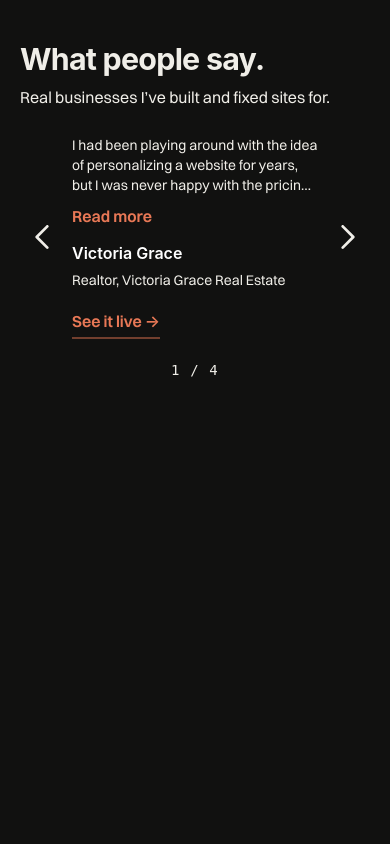
Test case: Proof › toggles the mobile read-more control on the quote
Click the button "Read more".
click(112, 216)  # box left=72, top=204, right=152, bottom=229
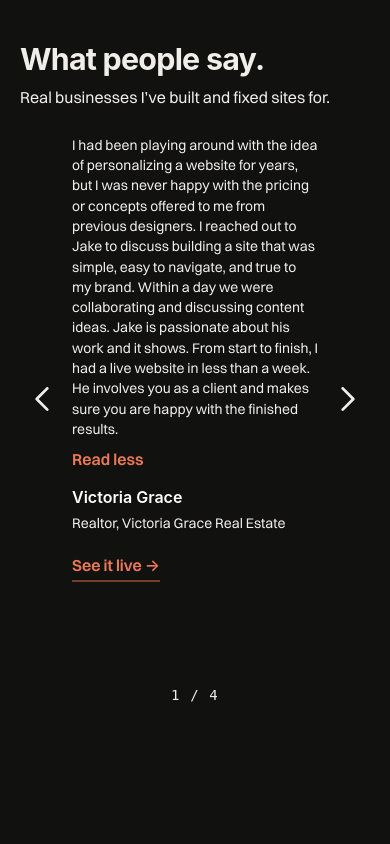
Result: the button "Read less" is expanded at left=72, top=447, right=144, bottom=473
